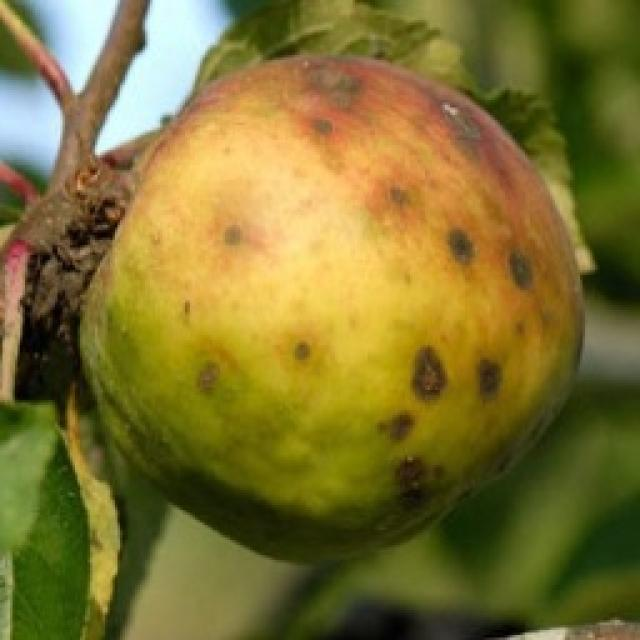defective: (72, 50, 588, 562)
